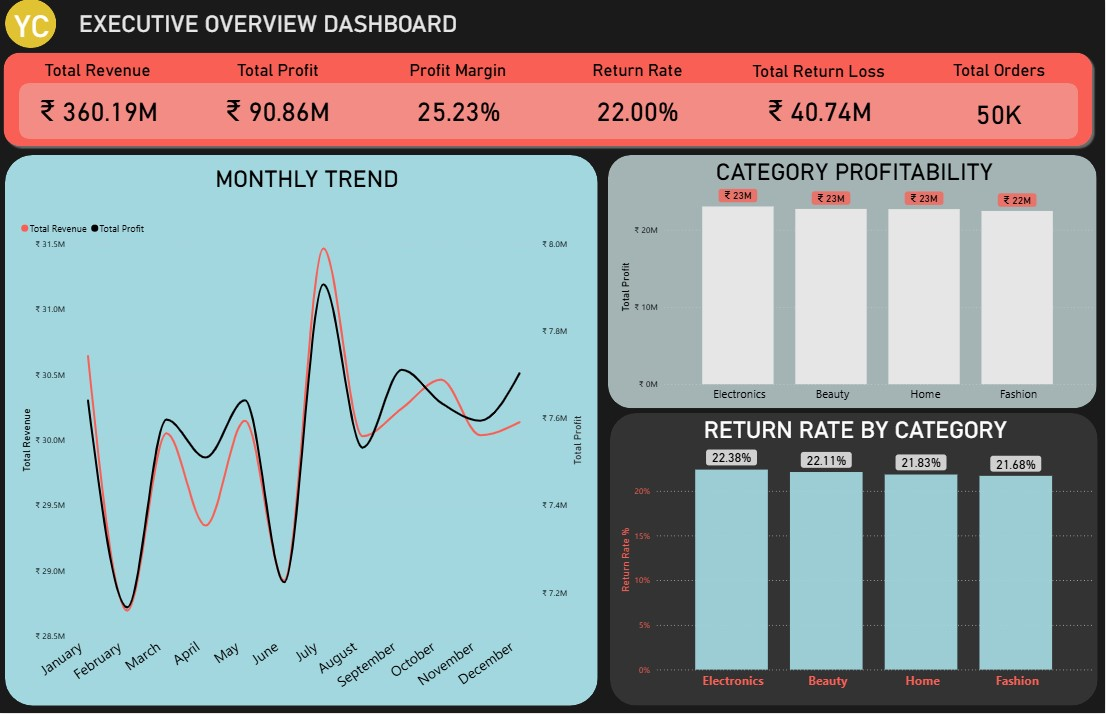

What the dashboard file says about the page in this screenshot:
{"tool":"powerbi","page":{"name":"Executive Overview","canvas":[1580,1020],"ordinal":0},"visuals":[{"type":"card","fields":{"Values":["final_analytics_dataset.Total Orders"]},"box":[1298.3,110.5,259,95.4],"z":0},{"type":"shape","box":[8.3,0,73.3,70],"z":1000},{"type":"shape","box":[0,70,1568.3,146.7],"z":2000},{"type":"shape","box":[28.3,120,1513.3,80],"z":3000},{"type":"card","fields":{"Values":["final_analytics_dataset.Total Return loss"]},"box":[1042.3,110.5,259,95.4],"z":4000},{"type":"card","fields":{"Values":["final_analytics_dataset.Return Rate %"]},"box":[783.3,110.5,259,95.4],"z":5000},{"type":"card","fields":{"Values":["final_analytics_dataset.Profit Margin %"]},"box":[527.3,110.5,259,95.4],"z":6000},{"type":"card","fields":{"Values":["final_analytics_dataset.Total Profit"]},"box":[268.3,110.5,259,95.4],"z":7000},{"type":"card","fields":{"Values":["final_analytics_dataset.Total Revenue"]},"box":[12.3,110.5,259,95.4],"z":8000},{"type":"textbox","box":[1298.3,83.3,260,53.3],"z":9000},{"type":"textbox","box":[1041.7,85,258.3,53.3],"z":10000},{"type":"textbox","box":[783.3,83.3,258.3,53.3],"z":11000},{"type":"textbox","box":[526.7,83.3,256.7,53.3],"z":12000},{"type":"textbox","box":[270,83.3,256.7,53.3],"z":13000},{"type":"textbox","box":[11.7,83.3,258.3,53.3],"z":14000},{"type":"shape","box":[8.3,223.3,846.7,786.7],"z":15000},{"type":"lineChart","fields":{"Category":["final_analytics_dataset.order_date.Variation.Date Hierarchy.Month"],"Y":["final_analytics_dataset.Total Revenue"],"Y2":["final_analytics_dataset.Total Profit"]},"box":[25,306.7,813.3,703.3],"z":16000},{"type":"textbox","box":[24.2,232.4,830.8,52.5],"z":17000},{"type":"shape","box":[873.3,591.7,696.7,418.3],"z":18000},{"type":"shape","box":[870,223.3,698.3,361.7],"z":19000},{"type":"clusteredColumnChart","fields":{"Category":["final_analytics_dataset.category"],"Y":["final_analytics_dataset.Return Rate %"]},"box":[881.7,630,686.7,365],"z":20000},{"type":"clusteredColumnChart","fields":{"Category":["final_analytics_dataset.category"],"Y":["final_analytics_dataset.Total Profit"]},"box":[881.7,258.3,686.7,326.7],"z":21000},{"type":"textbox","box":[888.3,591.7,670,50],"z":22000},{"type":"textbox","box":[887.6,223.4,670.5,58.7],"z":23000},{"type":"card","fields":{"Values":["final_analytics_dataset.Total Orders"]},"box":[1298.6,113.7,258.6,95],"z":24000},{"type":"textbox","box":[5,8.3,81.7,65],"z":25000},{"type":"textbox","box":[98.3,11.7,571.7,53.3],"z":25001}]}

Visuals, with their boxes in screenshot pixels (x1, y1, x2, y2), scaled from the page's 1580x1020 canvas onto the 1106x714 screenshot:
card - final_analytics_dataset.Total Orders: pyautogui.locateOnScreen(909, 77, 1090, 144)
shape: pyautogui.locateOnScreen(6, 0, 57, 49)
shape: pyautogui.locateOnScreen(0, 49, 1098, 152)
shape: pyautogui.locateOnScreen(20, 84, 1079, 140)
card - final_analytics_dataset.Total Return loss: pyautogui.locateOnScreen(730, 77, 911, 144)
card - final_analytics_dataset.Return Rate %: pyautogui.locateOnScreen(548, 77, 730, 144)
card - final_analytics_dataset.Profit Margin %: pyautogui.locateOnScreen(369, 77, 550, 144)
card - final_analytics_dataset.Total Profit: pyautogui.locateOnScreen(188, 77, 369, 144)
card - final_analytics_dataset.Total Revenue: pyautogui.locateOnScreen(9, 77, 190, 144)
textbox: pyautogui.locateOnScreen(909, 58, 1091, 96)
textbox: pyautogui.locateOnScreen(729, 59, 910, 97)
textbox: pyautogui.locateOnScreen(548, 58, 729, 96)
textbox: pyautogui.locateOnScreen(369, 58, 548, 96)
textbox: pyautogui.locateOnScreen(189, 58, 369, 96)
textbox: pyautogui.locateOnScreen(8, 58, 189, 96)
shape: pyautogui.locateOnScreen(6, 156, 598, 707)
lineChart - final_analytics_dataset.order_date.Variation.Date Hierarchy.Month x final_analytics_dataset.Total Revenue: pyautogui.locateOnScreen(18, 215, 587, 707)
textbox: pyautogui.locateOnScreen(17, 163, 598, 199)
shape: pyautogui.locateOnScreen(611, 414, 1099, 707)
shape: pyautogui.locateOnScreen(609, 156, 1098, 410)
clusteredColumnChart - final_analytics_dataset.category x final_analytics_dataset.Return Rate %: pyautogui.locateOnScreen(617, 441, 1098, 696)
clusteredColumnChart - final_analytics_dataset.category x final_analytics_dataset.Total Profit: pyautogui.locateOnScreen(617, 181, 1098, 410)
textbox: pyautogui.locateOnScreen(622, 414, 1091, 449)
textbox: pyautogui.locateOnScreen(621, 156, 1091, 197)
card - final_analytics_dataset.Total Orders: pyautogui.locateOnScreen(909, 80, 1090, 146)
textbox: pyautogui.locateOnScreen(4, 6, 61, 51)
textbox: pyautogui.locateOnScreen(69, 8, 469, 46)
